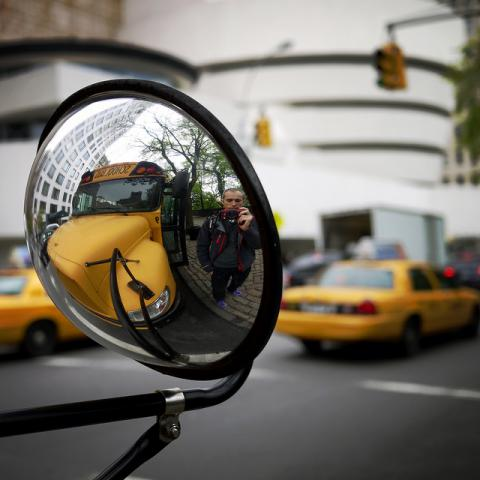bus: (45, 162, 191, 329)
car: (274, 260, 479, 354), (0, 267, 89, 355), (284, 250, 348, 291), (441, 252, 479, 290)
